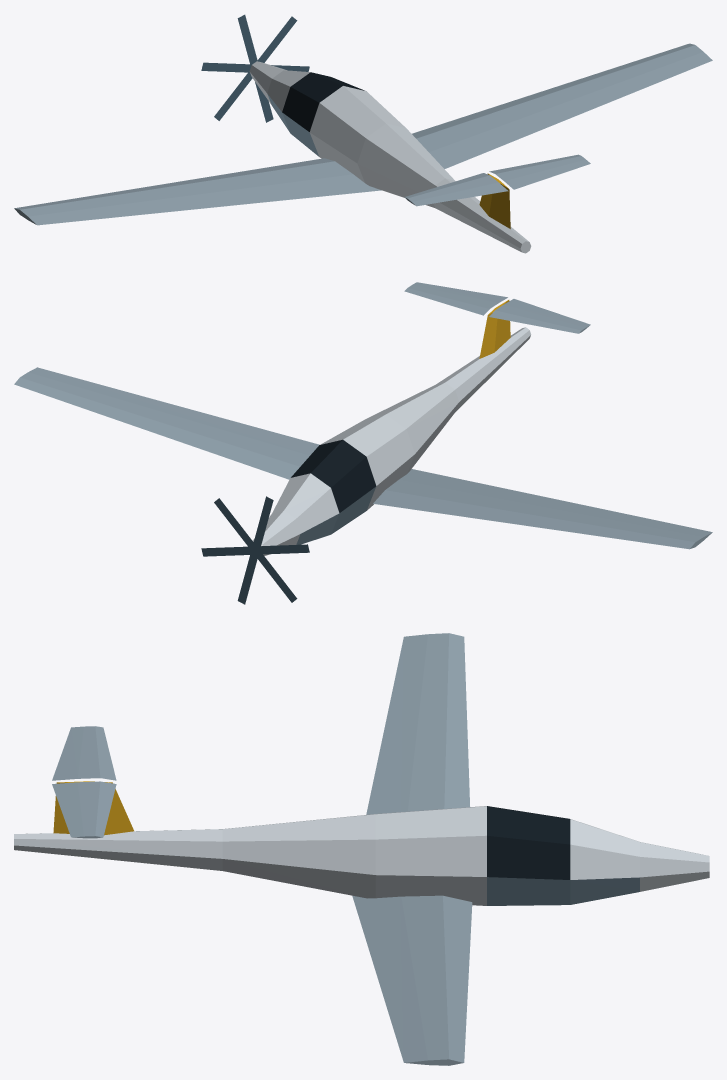
3 views of the same model, one above another, from view 1: azimuth 30°, elevation 25°; view 2: azimuth 150°, elevation 25°; view 3: azimuth 270°, elevation 25° (orthographic). The views are drawn at different scales.
Visible parts, largest first — view 1: lod0; view 2: lod0; view 3: lod0.
Boxes of the visible parts, <box> form: lod0: <box>14,14,712,253</box>; lod0: <box>14,282,712,604</box>; lod0: <box>14,633,709,1065</box>.
Size of what is drawn, in the model's own units: 1.44 by 0.2536 by 1.
